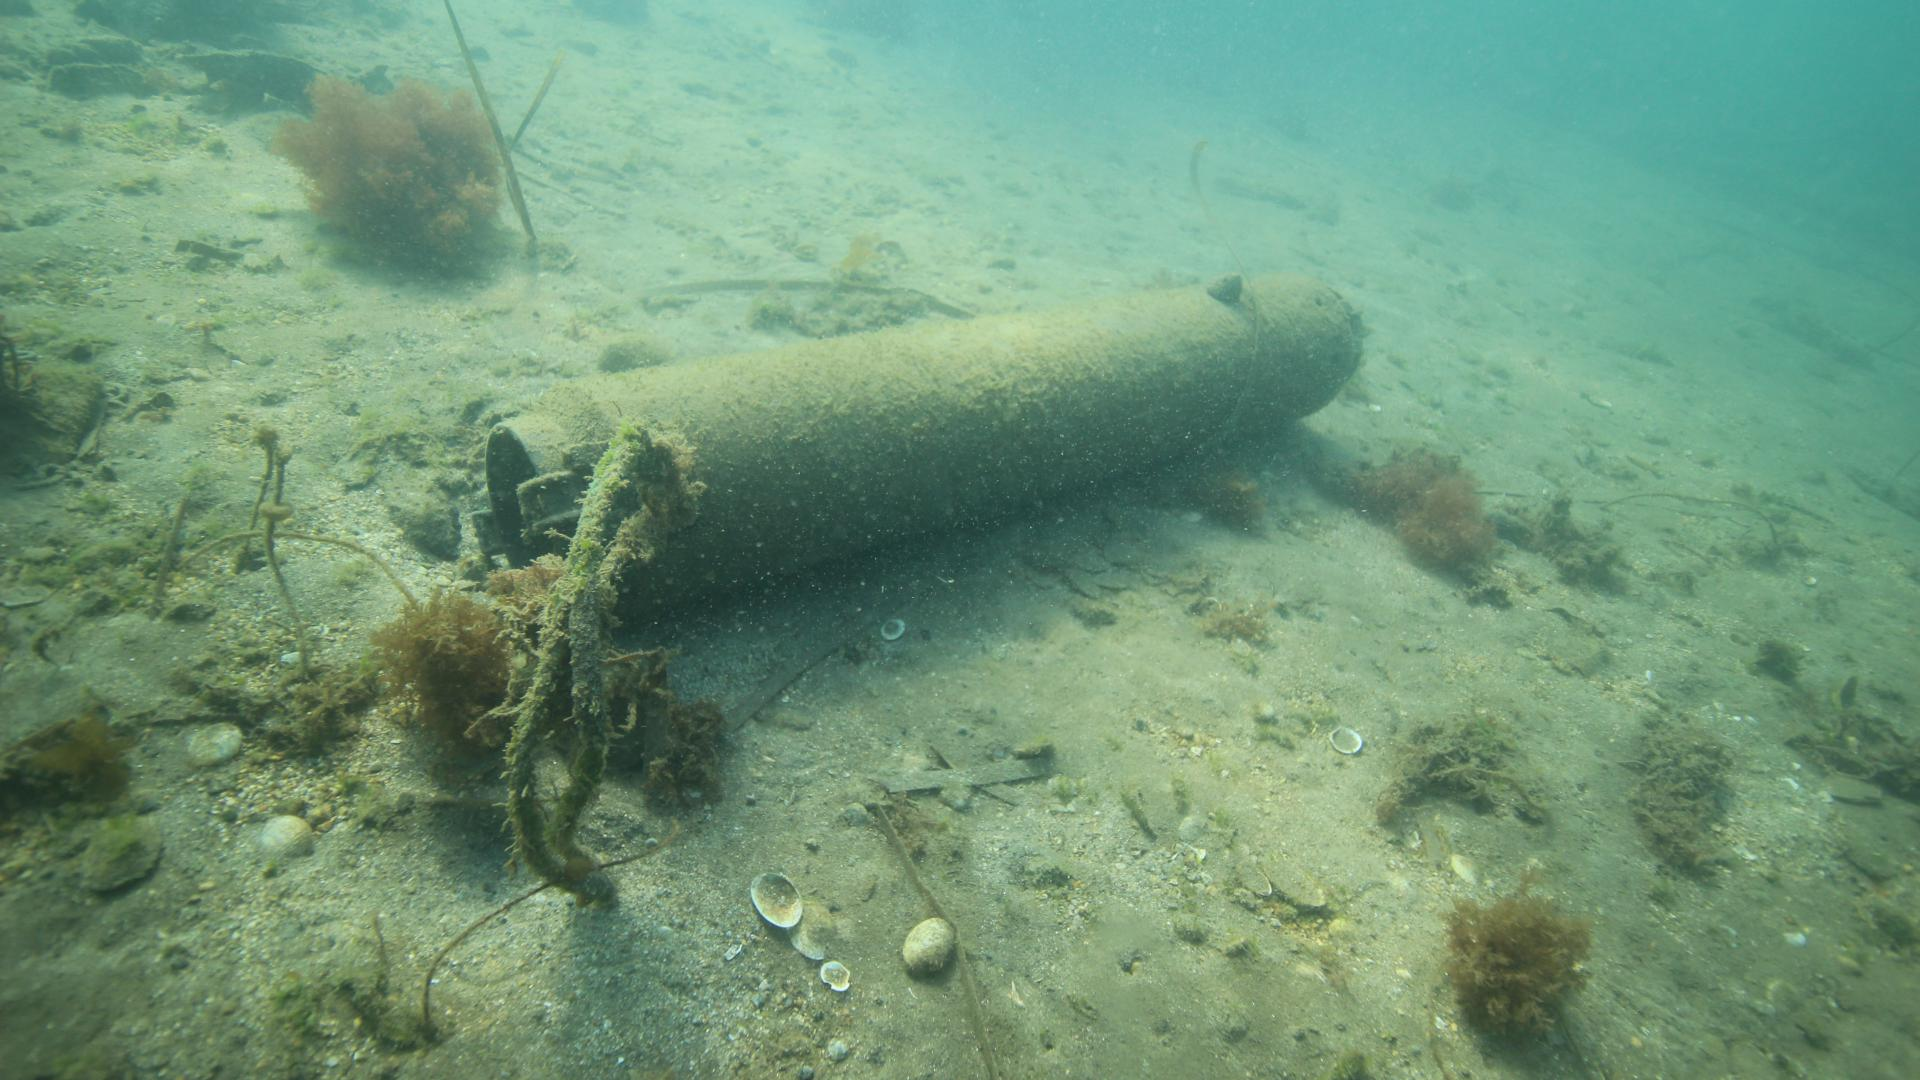bundle of ropes: (502, 417, 696, 901)
eel fish trap: (488, 277, 1367, 625)
